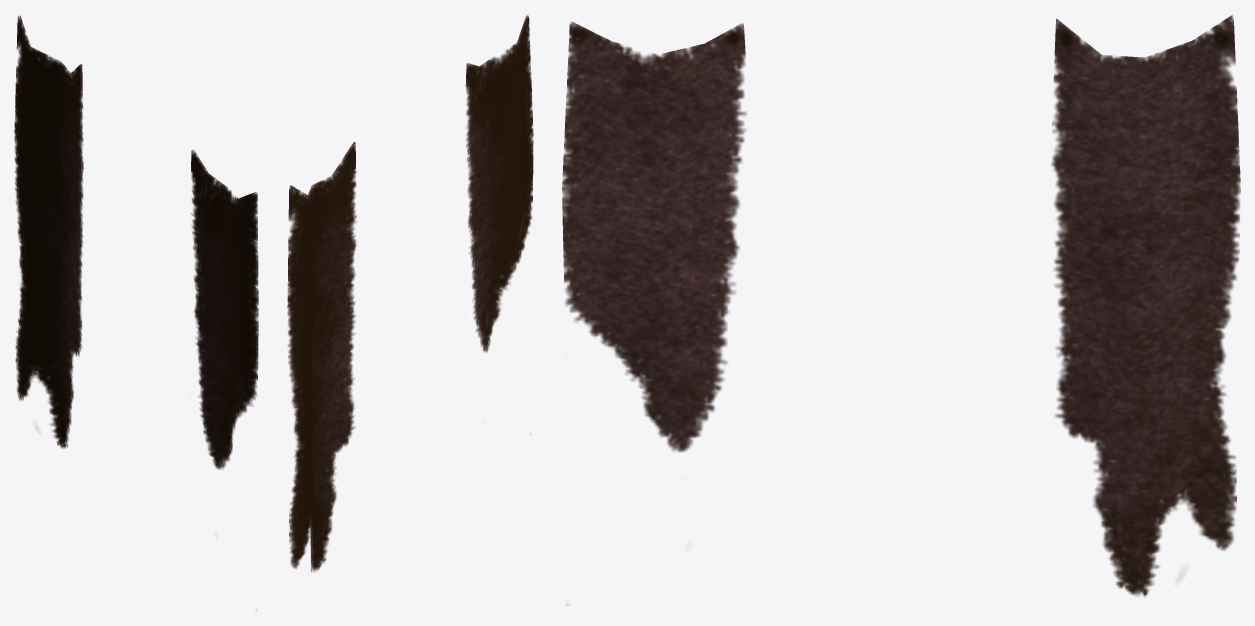
Rendered from curtain1.glb.
3 views of the same model, side by side, from view 1: azimuth 30°, elevation 25°; view 2: azimuth 150°, elevation 25°; view 3: azimuth 270°, elevation 25° (orthographic). The views are drawn at different scales.
Parts seen in each view (by area): view 1: curtain1; view 2: curtain1; view 3: curtain1.
Boxes of the visible parts, <box> form: curtain1: <box>14,15,258,610</box>; curtain1: <box>287,15,533,572</box>; curtain1: <box>562,15,1240,605</box>.
Size of the model in its own units: 0.0304 by 0.8 by 0.832.
Materials: 1 (1 with a texture image).
